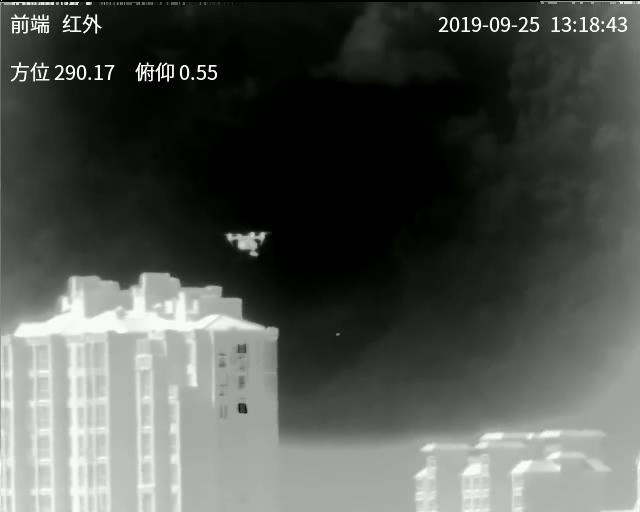uav: (225, 228, 272, 259)
